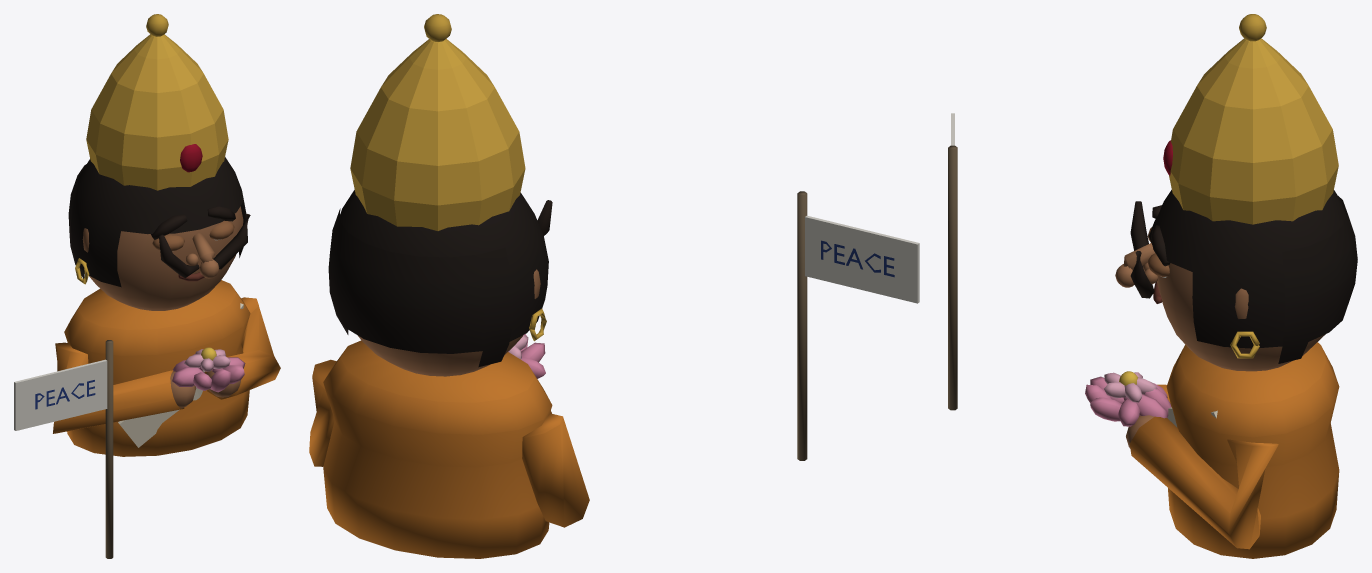
3 views of the same model, side by side, from view 1: azimuth 30°, elevation 25°; view 2: azimuth 150°, elevation 25°; view 3: azimuth 270°, elevation 25° (orthographic). The views are drawn at different scales.
Visible parts, largest first — view 1: fig_head, fig_body, fig_props; view 2: fig_head, fig_body, fig_props; view 3: fig_head, fig_body, fig_props.
Boxes of the visible parts, x1,y1,x2,y2 form: fig_head: (68, 14, 250, 310); fig_body: (53, 280, 280, 456); fig_props: (14, 340, 113, 558); fig_head: (328, 14, 552, 376); fig_body: (309, 334, 589, 558); fig_props: (797, 191, 919, 460); fig_head: (1115, 14, 1357, 371); fig_body: (1085, 342, 1339, 558); fig_props: (948, 113, 957, 410).
Size of the model in its own units: 1.33 by 1.37 by 1.02.
